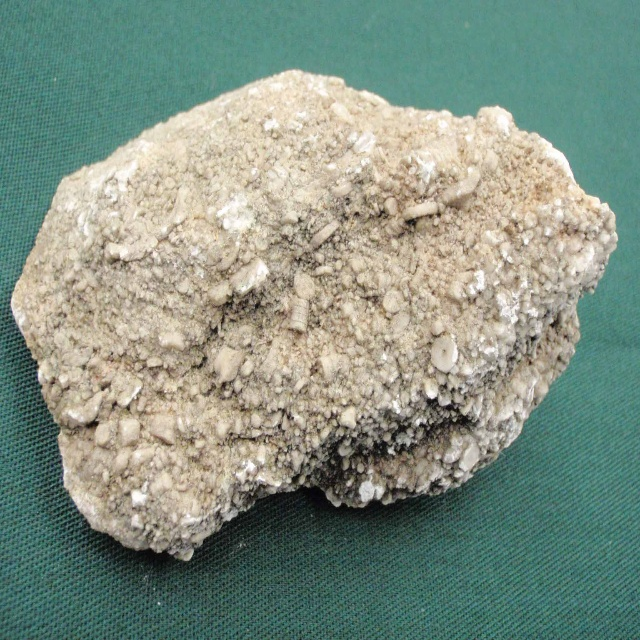obstacle: (12, 71, 617, 560)
